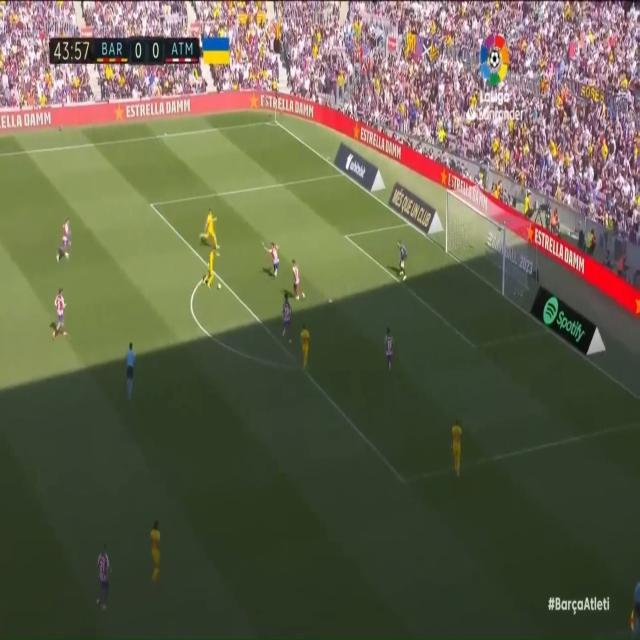ball: (218, 280, 224, 292)
goalkeeper: (391, 240, 410, 286)
player: (444, 416, 473, 479), (49, 288, 79, 344), (145, 519, 169, 583), (93, 542, 115, 611), (200, 205, 222, 250), (52, 217, 74, 262), (379, 325, 397, 370), (297, 318, 313, 368), (262, 240, 283, 278), (281, 293, 296, 338), (205, 247, 220, 290), (291, 258, 306, 300)
referee: (117, 337, 144, 408), (629, 560, 640, 633)
